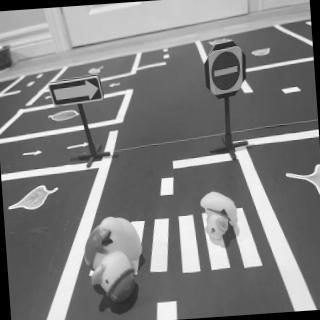duck_regular: (199, 189, 241, 244)
duck_specialty: (83, 215, 149, 315)
road_crosswalk: (132, 210, 265, 280)
road_oneway: (20, 148, 45, 161), (67, 142, 92, 153), (108, 79, 123, 89)
sign_noentry: (207, 49, 245, 96)
sign_oneway_right: (48, 78, 106, 107)
